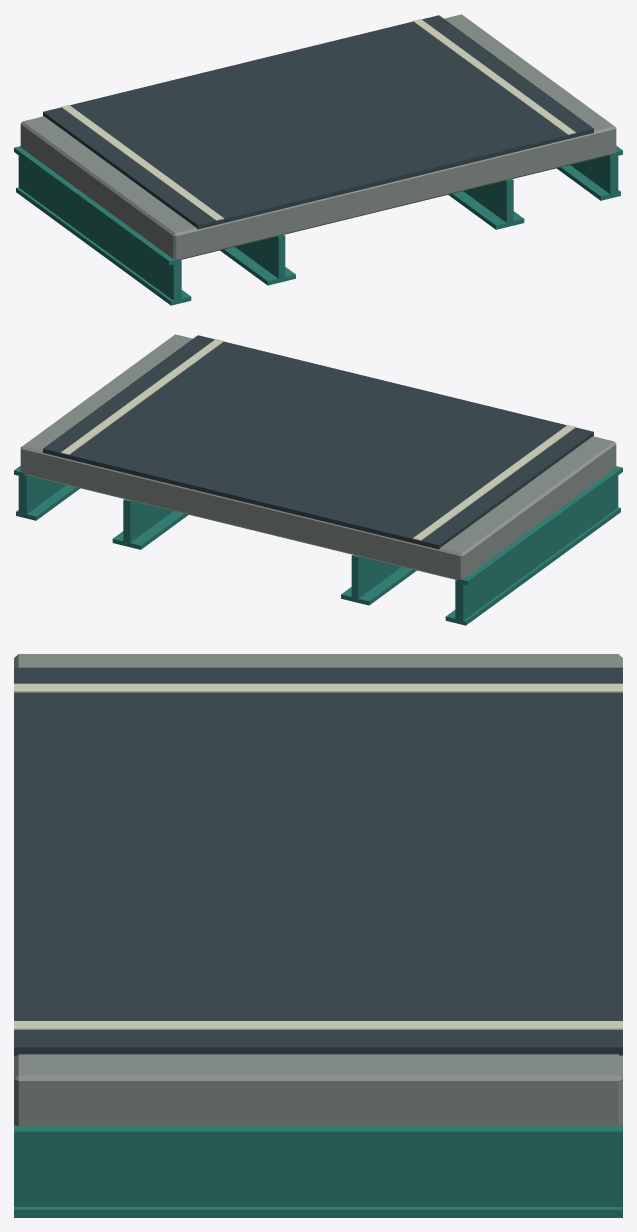
File: sm_env_route_bridge_deck.glb
The picture shows the model from 3 angles, top to bottom: view 1: azimuth 30°, elevation 25°; view 2: azimuth 150°, elevation 25°; view 3: azimuth 270°, elevation 25°; orthographic projection. The views are drawn at different scales.
Parts seen in each view (by area): view 1: Asphalt, Slab, Fascia, FasciaLip, EdgeLine, EdgeLine.001, FasciaFlange, Web, Web.001, Fascia.001, Flange.001, Flange (+1 smaller); view 2: Asphalt, Slab, Fascia, FasciaLip, EdgeLine, EdgeLine.001, FasciaFlange, Web, Web.001, Fascia.001, Flange.001, Flange (+1 smaller); view 3: Asphalt, Slab, Fascia.001, FasciaLip.001, FasciaFlange.001, EdgeLine, EdgeLine.001.
Part boxes in pixels (box(x1,y1,x2,y2)): Asphalt: box(43, 15, 593, 229); Slab: box(20, 14, 616, 259); Fascia: box(18, 155, 181, 301); FasciaLip: box(14, 146, 179, 265); EdgeLine: box(61, 105, 223, 220); EdgeLine.001: box(413, 19, 575, 134); FasciaFlange: box(16, 187, 191, 305); Web: box(235, 235, 285, 278); Web.001: box(463, 179, 513, 222); Fascia.001: box(570, 154, 618, 194); Flange.001: box(448, 191, 524, 229); Flange: box(220, 247, 295, 285); Asphalt: box(43, 335, 593, 549); Slab: box(20, 334, 616, 579); Fascia: box(455, 475, 618, 620); FasciaLip: box(457, 466, 622, 585); EdgeLine: box(413, 425, 575, 540); EdgeLine.001: box(61, 339, 223, 454); FasciaFlange: box(445, 507, 620, 625); Web: box(351, 555, 401, 598); Web.001: box(123, 499, 173, 543); Fascia.001: box(18, 474, 66, 514); Flange.001: box(112, 511, 188, 549); Flange: box(341, 567, 416, 605); Asphalt: box(14, 667, 622, 1055); Slab: box(14, 654, 622, 1126); Fascia.001: box(14, 1140, 622, 1206); FasciaLip.001: box(14, 1124, 622, 1139); FasciaFlange.001: box(14, 1207, 622, 1217); EdgeLine: box(14, 683, 622, 692); EdgeLine.001: box(14, 1021, 622, 1029).
Size of the model in its own units: 6.76 by 1.11 by 4.
